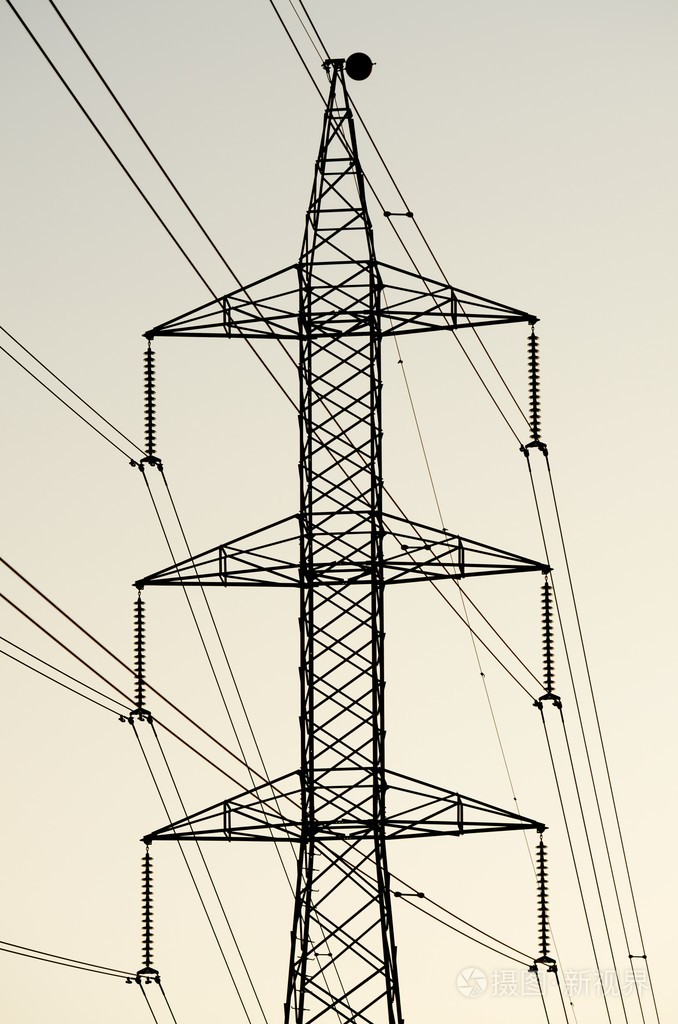insulator: (139, 849, 163, 983), (536, 581, 563, 695), (523, 329, 549, 443), (126, 600, 151, 711), (534, 844, 556, 961), (139, 347, 158, 461)
